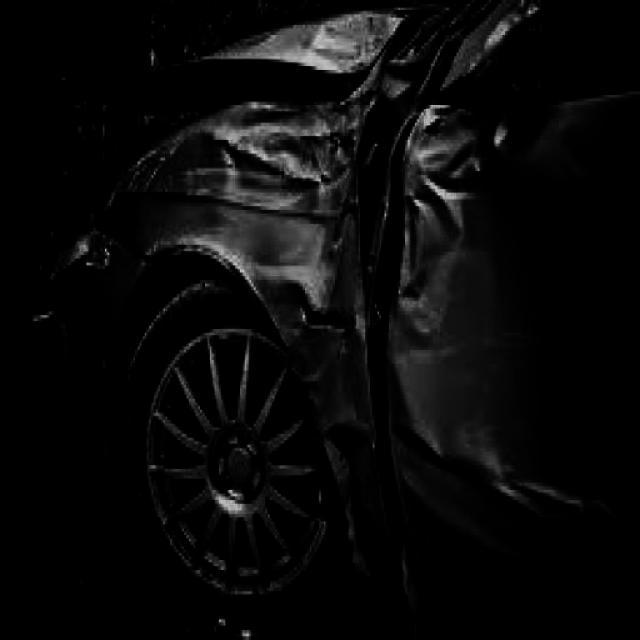car damage: (81, 6, 623, 609)
